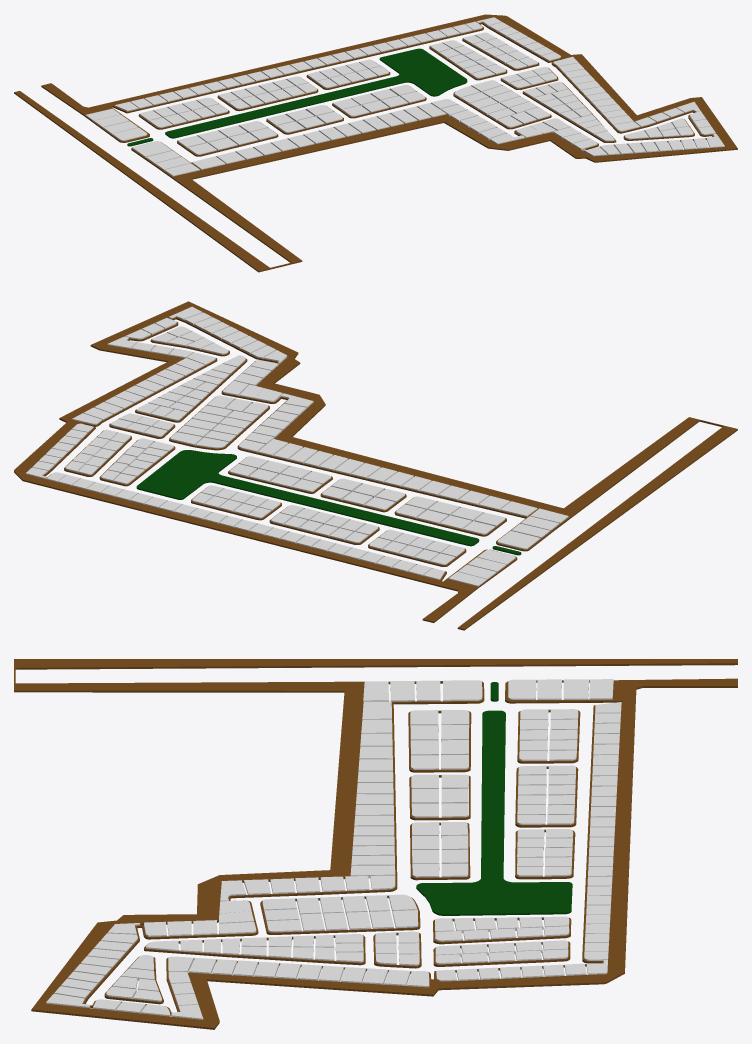
The model's file is map.glb.
3 renders of one model, top to bottom at view 1: azimuth 30°, elevation 25°; view 2: azimuth 150°, elevation 25°; view 3: azimuth 270°, elevation 25°, orthographic. The views are drawn at different scales.
Visible parts, largest first — view 1: sidewalk, grass; view 2: sidewalk, grass; view 3: sidewalk, grass, Lot_005.
Part boxes in pixels (x1=…): sidewalk: x1=14, y1=14, x2=737, y2=272; grass: x1=127, y1=48, x2=467, y2=146; sidewalk: x1=14, y1=301, x2=737, y2=630; grass: x1=136, y1=450, x2=521, y2=555; sidewalk: x1=14, y1=659, x2=737, y2=1029; grass: x1=416, y1=682, x2=572, y2=915; Lot_005: x1=443, y1=680, x2=482, y2=701.
Size of the model in its own units: 86.56 by 0.3446 by 71.76.
